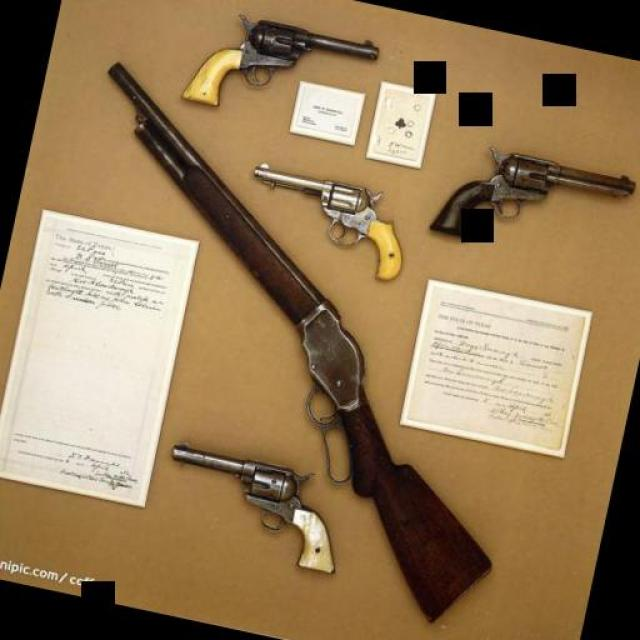gun: (425, 131, 637, 269), (150, 431, 352, 574), (178, 0, 380, 136), (235, 159, 417, 281)
